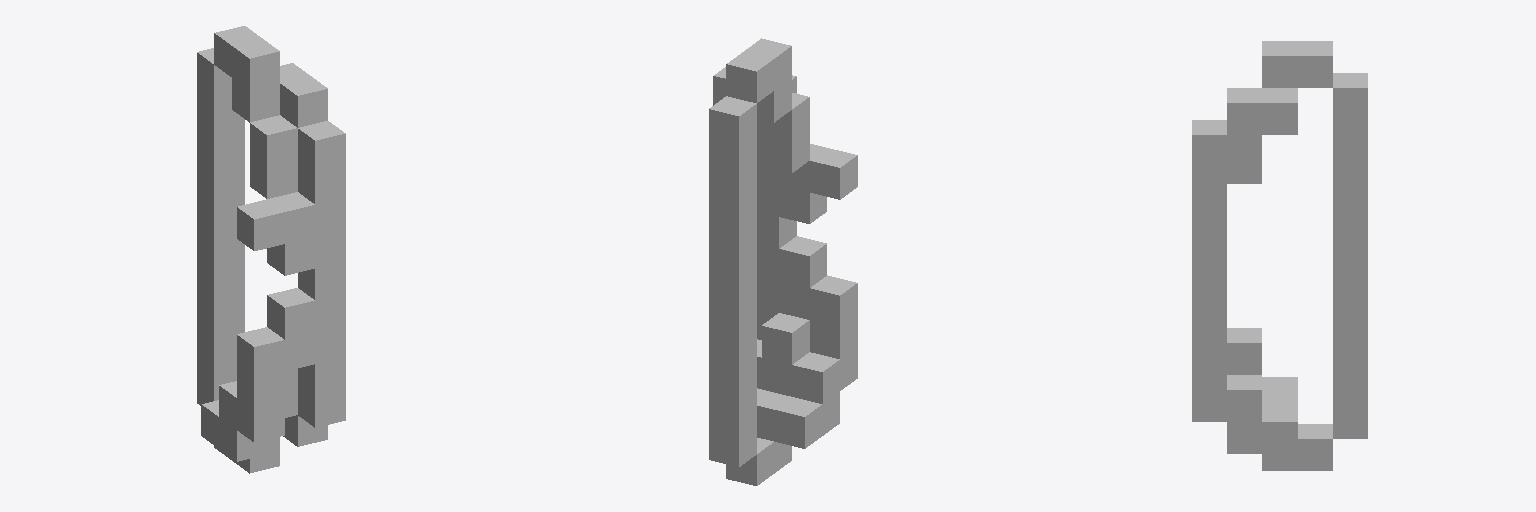
The model's file is BowPull1.obj.
The picture shows the model from 3 angles: view 1: azimuth 30°, elevation 25°; view 2: azimuth 150°, elevation 25°; view 3: azimuth 270°, elevation 25°; orthographic projection.
Parts seen in each view (by area): view 1: object 1; view 2: object 1; view 3: object 1.
Part boxes in pixels (x1,y1,x2,y2): object 1: (197,26,345,473); object 1: (709,38,857,485); object 1: (1192,41,1367,470).
Size of the model in its own units: 0.3 by 1.3 by 0.5.